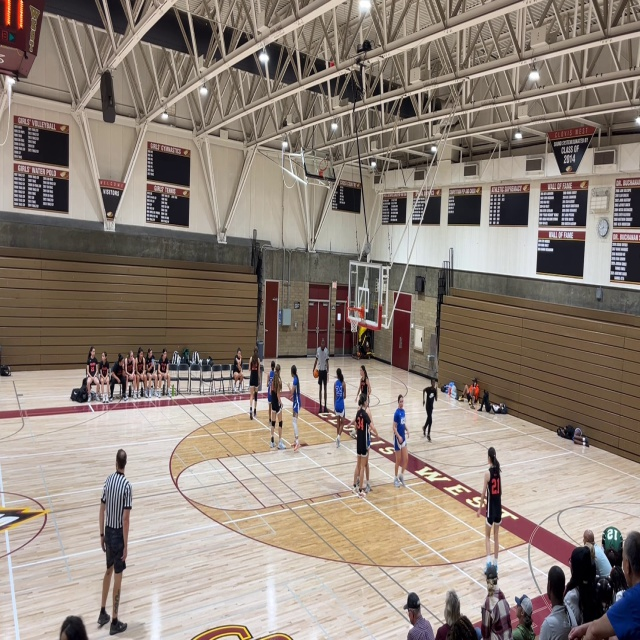Basketball: (313, 370, 319, 378)
